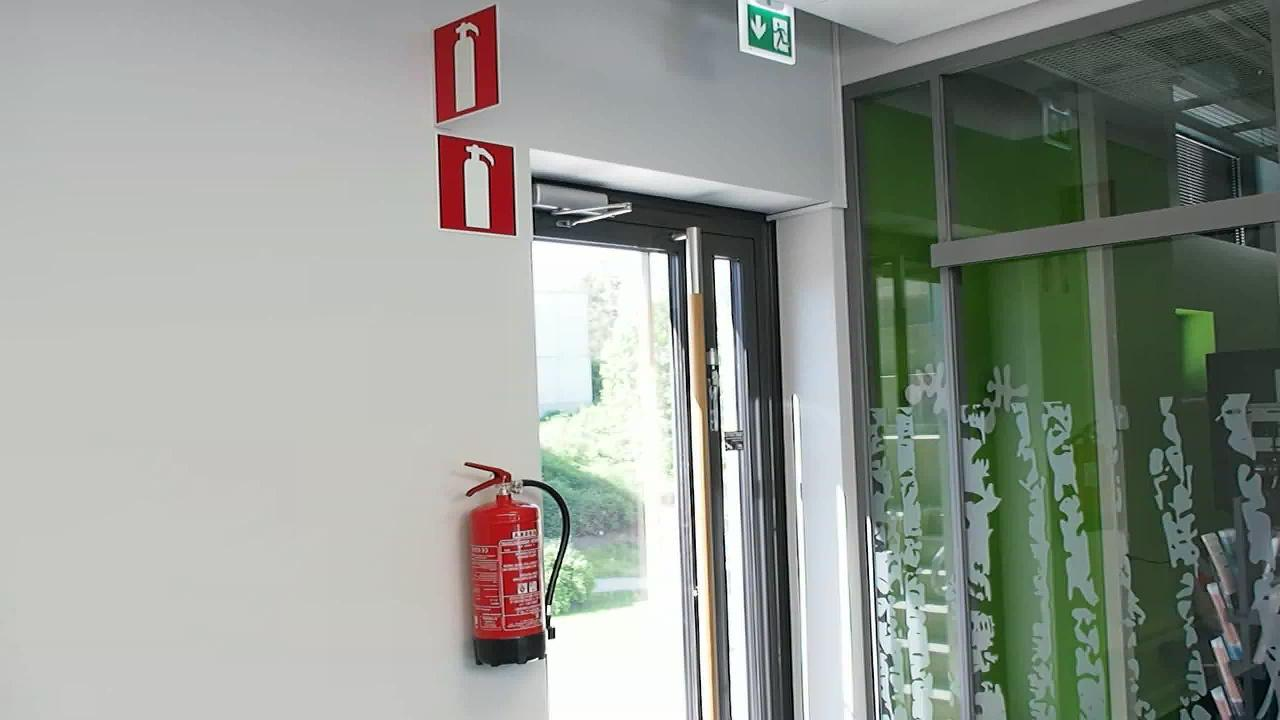exit: (743, 3, 799, 55)
fireextinguisher: (458, 456, 560, 673), (435, 128, 516, 229), (428, 12, 499, 112)
